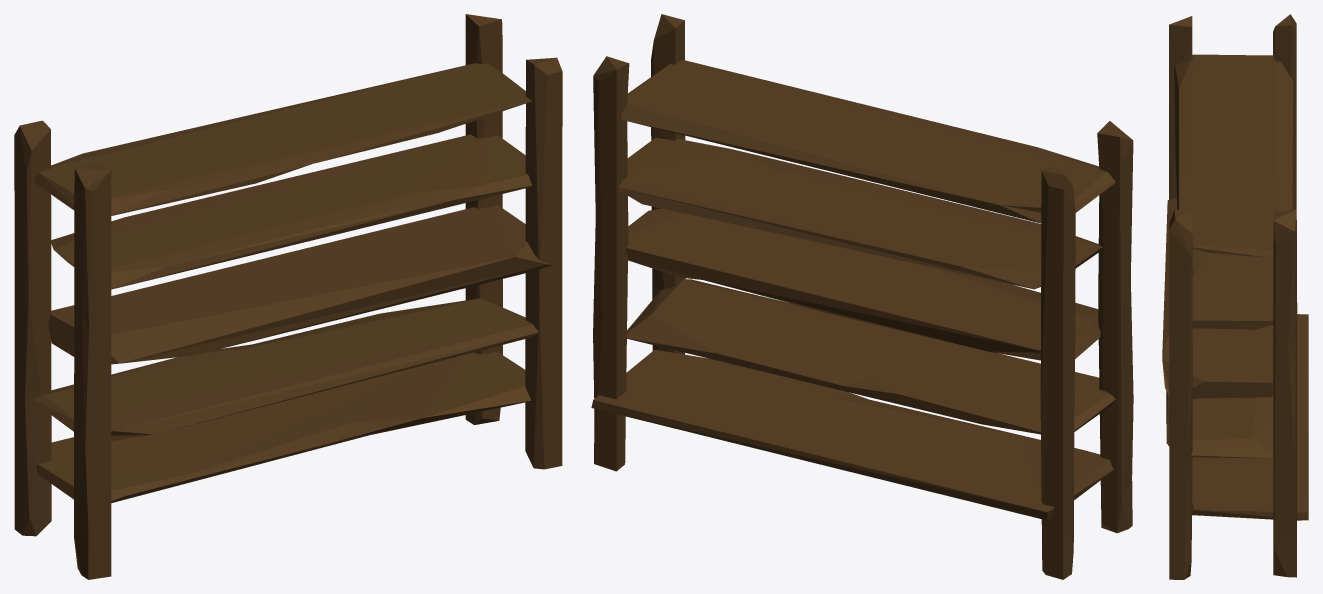
The model's file is SM_shelf.fbx.
The picture shows the model from 3 angles, left to right: view 1: azimuth 30°, elevation 25°; view 2: azimuth 150°, elevation 25°; view 3: azimuth 270°, elevation 25°; orthographic projection. The views are drawn at different scales.
Parts seen in each view (by area): view 1: Object32373; view 2: Object32373; view 3: Object32373.
Part boxes in pixels (x1=…): Object32373: x1=14, y1=14, x2=562, y2=579; Object32373: x1=591, y1=14, x2=1133, y2=579; Object32373: x1=1162, y1=14, x2=1308, y2=579.
Size of the model in its own units: 103 by 83.98 by 30.94.
